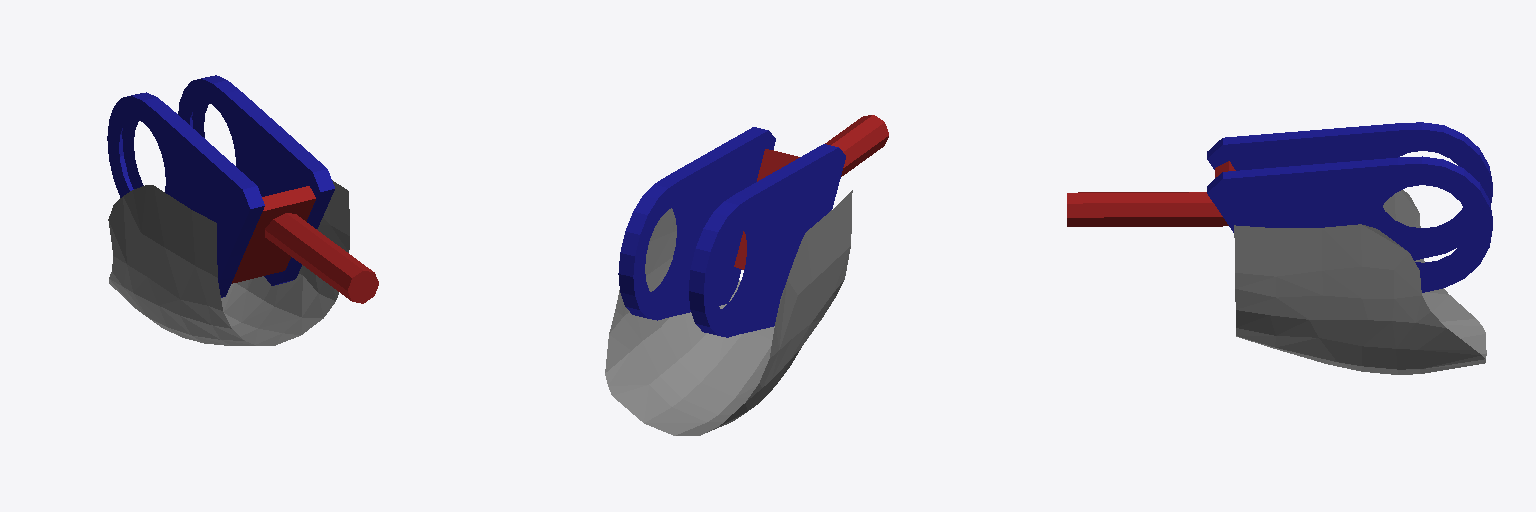
File: L_KFE.obj
3 renders of one model, left to right at view 1: azimuth 30°, elevation 25°; view 2: azimuth 150°, elevation 25°; view 3: azimuth 270°, elevation 25°, orthographic.
Bounding box in the file's own units: 4.02 × 5.61 × 9.58.